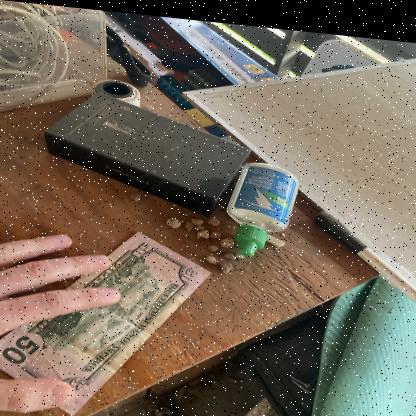fifty-back: (0, 229, 212, 414)
